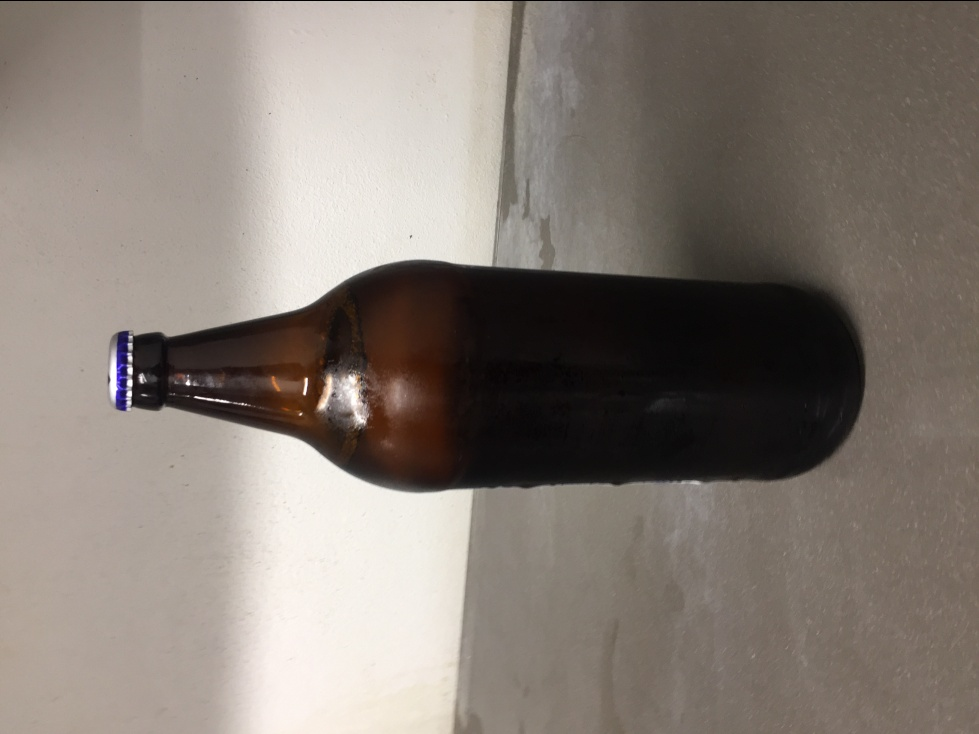tecateC: (102, 257, 867, 477)
